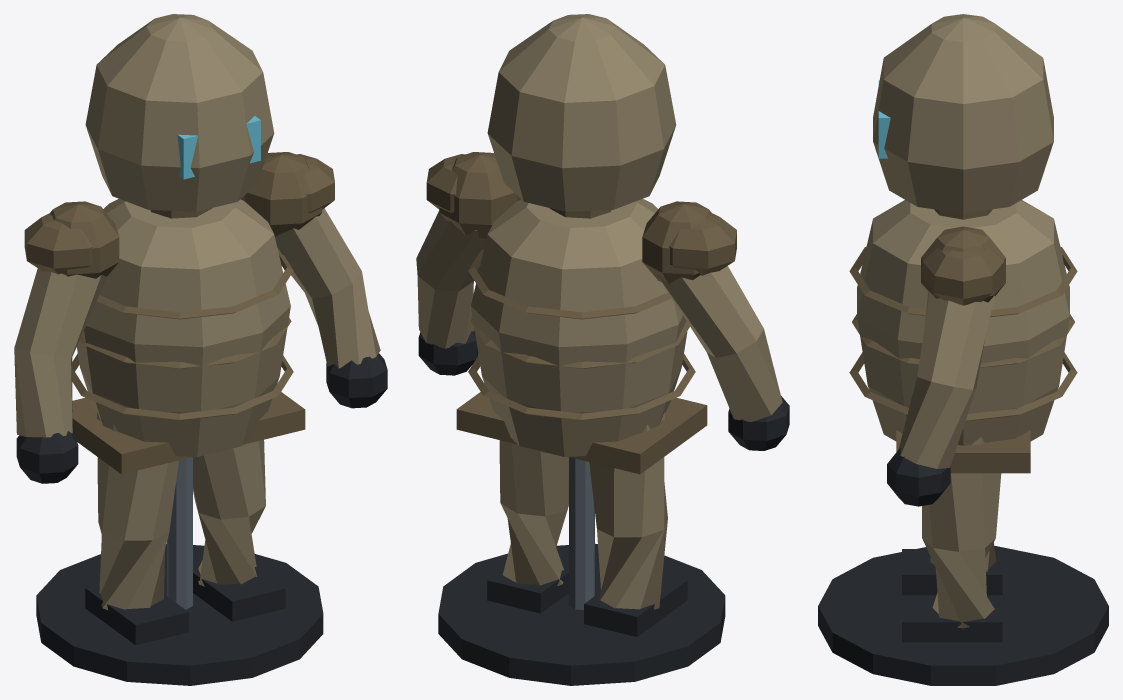
Rendered from fiber-armor.glb.
The picture shows the model from 3 angles, left to right: view 1: azimuth 30°, elevation 25°; view 2: azimuth 150°, elevation 25°; view 3: azimuth 270°, elevation 25°; orthographic projection.
Visible parts, largest first — view 1: m; view 2: m; view 3: m.
Boxes of the visible parts, x1,y1,x2,y2 form: m: [14, 14, 387, 685]; m: [416, 14, 789, 685]; m: [818, 14, 1108, 685].
Bounding box in the file's own units: 0.352 × 0.56 × 0.2426.
